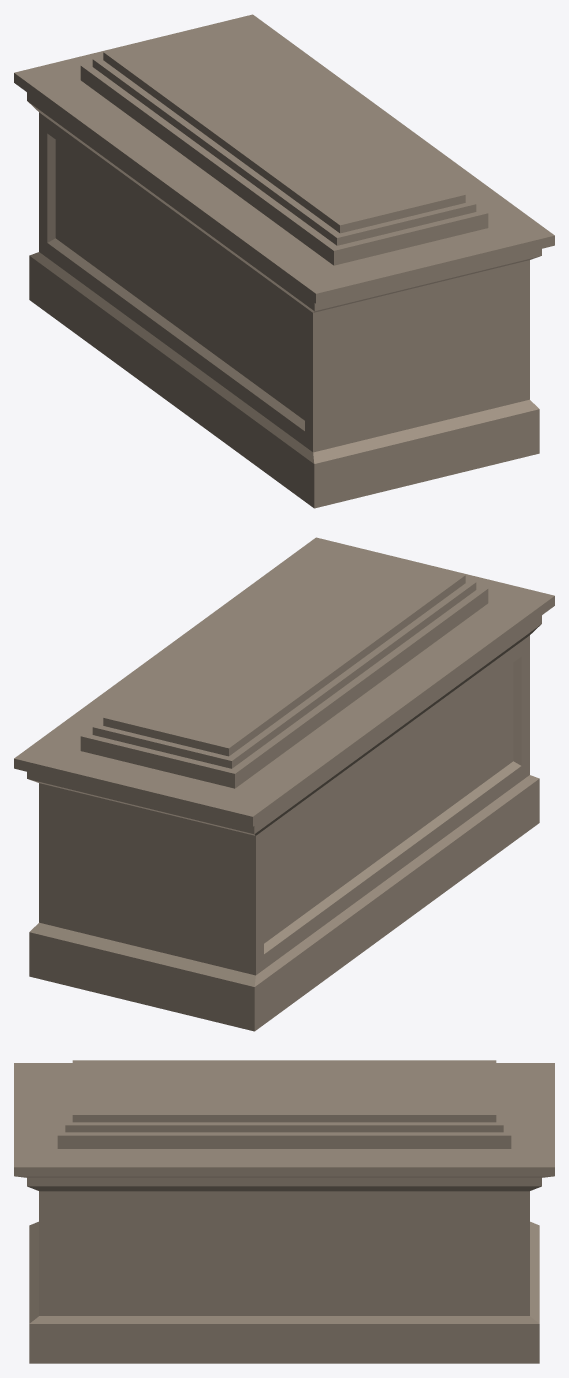
Rendered from BC_InsideFrame_D.fbx.
3 views of the same model, one above another, from view 1: azimuth 30°, elevation 25°; view 2: azimuth 150°, elevation 25°; view 3: azimuth 270°, elevation 25° (orthographic). The views are drawn at different scales.
Parts seen in each view (by area): view 1: BC_InsideFrame_D; view 2: BC_InsideFrame_D; view 3: BC_InsideFrame_D.
Boxes of the visible parts, <box> form: BC_InsideFrame_D: <box>14,14,554,508</box>; BC_InsideFrame_D: <box>14,537,554,1031</box>; BC_InsideFrame_D: <box>14,1060,554,1363</box>.
Bounding box in the file's own units: 446 × 452 × 978.
